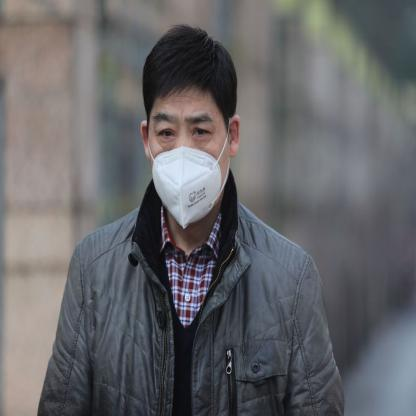Wearing_Mask: (148, 110, 230, 228)
